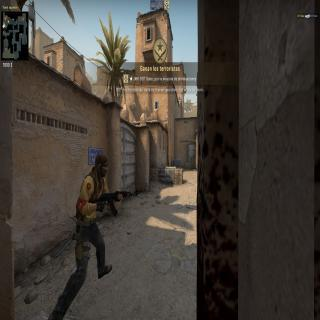T-Head: (95, 150, 108, 180)
